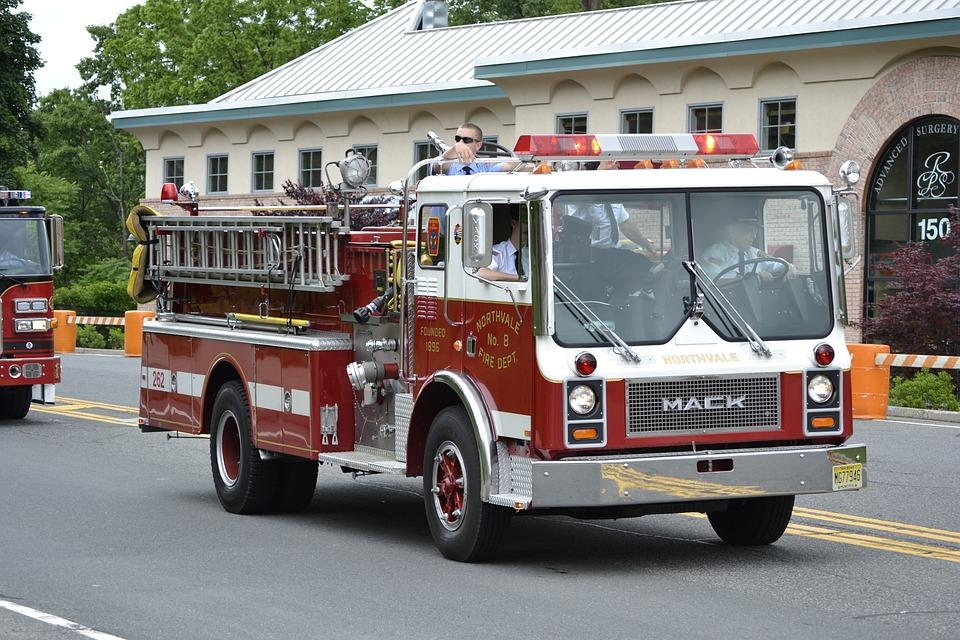Fire-engine: (123, 130, 869, 562), (0, 185, 64, 419)
